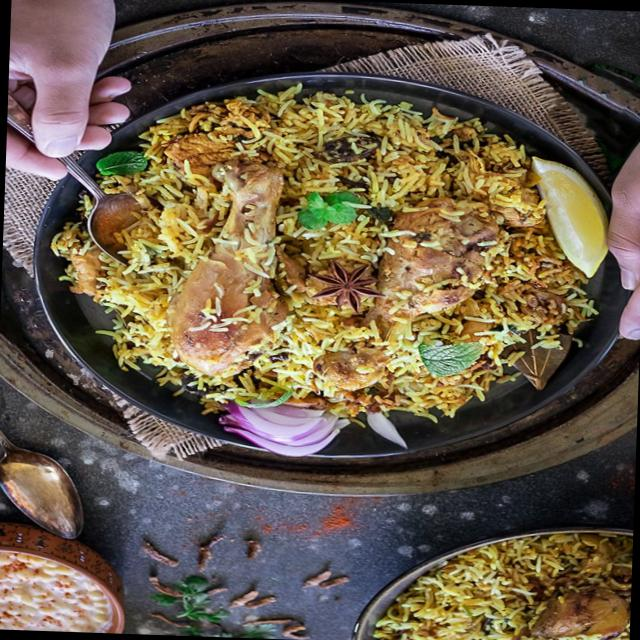Biryani: (32, 75, 562, 448)
